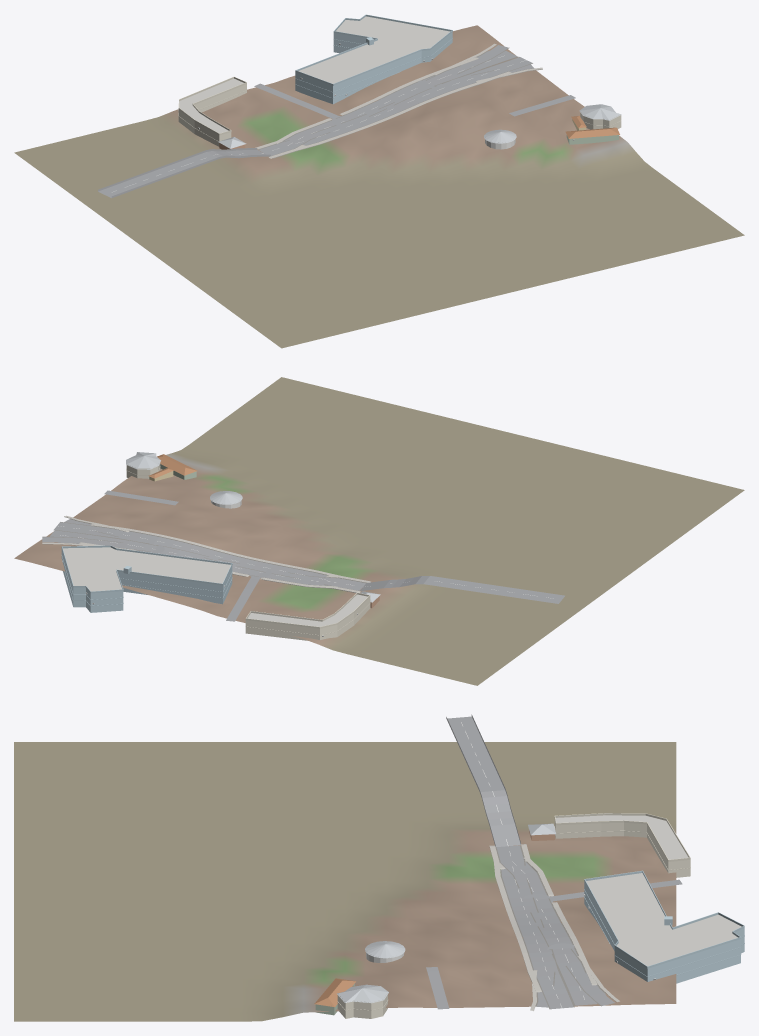
3 renders of one model, top to bottom at view 1: azimuth 30°, elevation 25°; view 2: azimuth 150°, elevation 25°; view 3: azimuth 270°, elevation 25°, orthographic. The views are drawn at different scales.
Visible parts, largest first — view 1: Terrain-col, Buildings-col, Roads-col, Details, Sidewalks-col; view 2: Terrain-col, Buildings-col, Roads-col, Details, Sidewalks-col; view 3: Terrain-col, Buildings-col, Roads-col, Details, Sidewalks-col.
Part boxes in pixels (left/top/right/bottom): Terrain-col: left=14, top=25, right=744, bottom=348; Buildings-col: left=178, top=16, right=621, bottom=149; Roads-col: left=98, top=45, right=575, bottom=198; Details: left=178, top=14, right=620, bottom=141; Sidewalks-col: left=255, top=43, right=542, bottom=158; Terrain-col: left=14, top=377, right=744, bottom=685; Buildings-col: left=61, top=452, right=380, bottom=640; Roads-col: left=42, top=490, right=564, bottom=621; Details: left=61, top=466, right=370, bottom=636; Sidewalks-col: left=42, top=515, right=370, bottom=592; Terrain-col: left=14, top=742, right=676, bottom=1021; Buildings-col: left=314, top=815, right=744, bottom=1018; Roads-col: left=426, top=714, right=682, bottom=1009; Details: left=337, top=813, right=744, bottom=1010; Sidewalks-col: left=489, top=844, right=619, bottom=1010.
Bounding box in the file's own units: 262 × 15.88 × 283.
